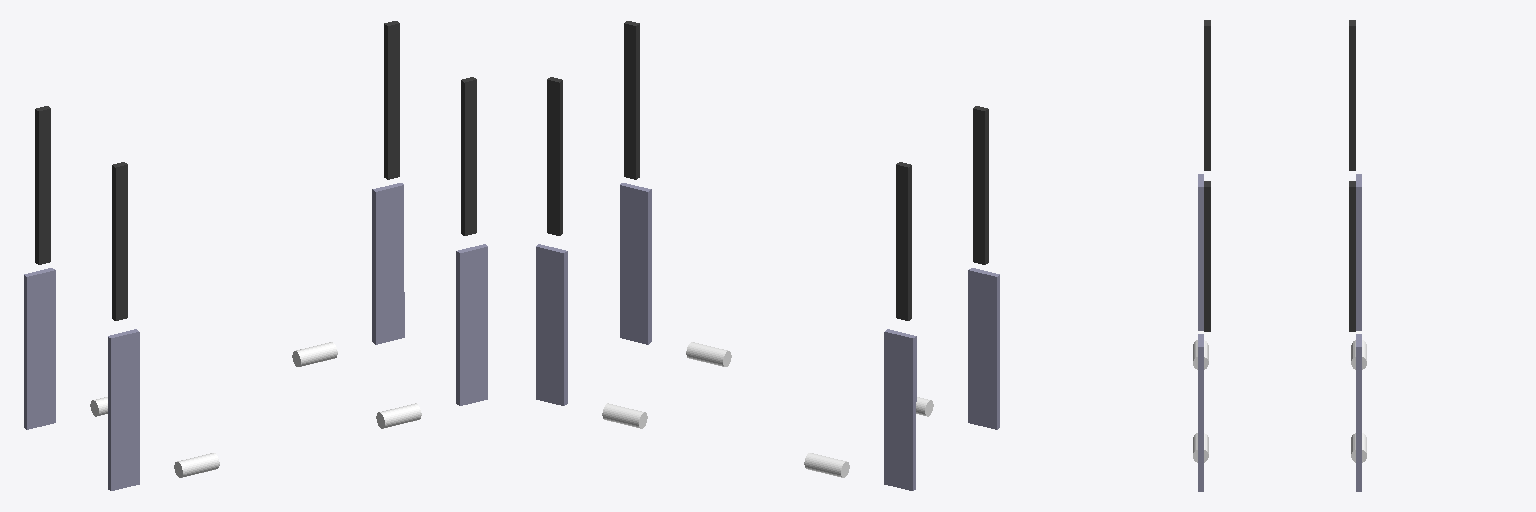
robot.urdf — quadruped:
<?xml version="1.0"?>
<robot name="quadruped">
	<link name="base_chassis_link">
		<visual>
			<geometry>
				<mesh filename="chassis.obj" scale="1 1 1"/>

			</geometry>
			<material name="black">
				<color rgba=".3 .3 .3 1"/>
			</material>
		</visual>
		<collision>
			<geometry>
				<box size=".3 .13 .087"/>
			</geometry>
		</collision>
		
		<inertial>
			<origin rpy="0 0 0" xyz=".05 0 0"/>
			<mass value="3.353"/>
			<inertia ixx=".006837" ixy=".0" ixz=".0" iyy=".027262" iyz=".0" izz=".029870"/>
		</inertial>
	</link>
	<link name="chassis_right">
			<visual>
			<geometry>
				<mesh filename="chassis2.obj" scale="1 1 1"/>
			</geometry>
			<material name="yellow">
				<color rgba=".7 .7 .3 1"/>
			</material>
		</visual>
		<collision>
			<origin rpy="0 0 0" xyz="0 0 0"/>
			<geometry>
				<mesh filename="chassis2.obj" scale="1 1 1"/>
			</geometry>
		</collision>
	
		<inertial>
			<mass value="1.32"/>
			<inertia ixx=".004147" ixy=".0" ixz=".0" iyy=".040913" iyz=".0" izz=".041840"/>
		</inertial>
	</link>
	<joint name="chassis_right_center" type="fixed">
		<axis xyz="0 0 1"/>
		<parent link="base_chassis_link"/>
		<child link="chassis_right"/>
		<origin rpy="0 0 0" xyz="0 -.1265 -.0185"/>
		<limit effort="100" velocity="100"/>
		<joint_properties damping=".0" friction=".0"/>
	</joint>


	<link name="motor_front_rightS_link">
		<visual>
			<origin rpy="0 0 0" xyz="0 0 0"/>
			<geometry>
				<cylinder length=".05" radius=".01"/>
			</geometry>
			<material name="white">
				<color rgba="1 1 1 1"/>
			</material>
		</visual>
		<collision>
			<origin rpy="0 0 0" xyz="0 0 0"/>
			<geometry>
				<cylinder length=".05" radius=".01"/>
			</geometry>
		</collision>
		<inertial>
			<mass value=".072"/>
			<inertia ixx=".00011397" ixy=".0" ixz=".0" iyy=".00011397" iyz=".0" izz=".00021765"/>
		</inertial>
	</link>
		
	<joint name="motor_front_rightS_joint" type="continuous">
		<axis xyz="0 0 1"/>
		<parent link="chassis_right"/>
		<child link="motor_front_rightS_link"/>
		<origin rpy="0 1.57075 0" xyz=".1375 .0275 0"/>
		<limit effort="100" velocity="100"/>
		<joint_properties damping=".0" friction=".0"/>
	</joint>

	  <link name="motor_back_rightS_link">
                <visual>
                        <origin rpy="0 0 0" xyz="0 0 0"/>
                        <geometry>
                                <cylinder length=".05" radius=".01"/>
                        </geometry>
                        <material name="white">
                                <color rgba="1 1 1 1"/>
                        </material>
                </visual>
                <collision>
                        <origin rpy="0 0 0" xyz="0 0 0"/>
                        <geometry>
                                <cylinder length=".05" radius=".01"/>
                        </geometry>
                </collision>
                <inertial>
                        <mass value=".072"/>
                        <inertia ixx=".00011397" ixy=".0" ixz=".0" iyy=".00011397" iyz=".0" izz=".00021765"/>
                </inertial>
        </link>

        <joint name="motor_back_rightS_joint" type="continuous">
                <axis xyz="0 0 1"/>
                <parent link="chassis_right"/>
                <child link="motor_back_rightS_link"/>
                <origin rpy="0 1.57075 0" xyz="-.1375 .0275 0"/>
                <limit effort="100" velocity="100"/>
                <joint_properties damping=".0" friction=".0"/>
        </joint>

	
	<link name="chassis_left">
		<visual>
			<origin rpy="0 0 0" xyz="0 0 0"/>
			<geometry>
				<mesh filename="chassis2.obj" scale="1 1 1"/>
			</geometry>
			<material name="yellow"/>
		</visual>
		
		<collision>
			<origin rpy="0 0 0" xyz="0 0 0"/>
			<geometry>
				<mesh filename="chassis2.obj" scale="1 1 1"/>
			</geometry>
		</collision>
		
		<inertial>
			<mass value="1.32"/>
			<inertia ixx=".004147" ixy=".0" ixz=".0" iyy=".040913" iyz=".0" izz=".041840"/>
		</inertial>
	</link>
	<joint name="chassis_left_center" type="fixed">
		<axis xyz="0 0 1"/>
		<parent link="base_chassis_link"/>
		<child link="chassis_left"/>
		<origin rpy="0 0 0" xyz="0 .1265 -.0185"/>
		<limit effort="100" velocity="100"/>
		<joint_properties damping=".0" friction=".0"/>
	</joint>


	 <link name="motor_front_leftS_link">
                <visual>
                        <origin rpy="0 0 0" xyz="0 0 0"/>
                        <geometry>
                                <cylinder length=".05" radius=".01"/>
                        </geometry>
                        <material name="white">
                                <color rgba="1 1 1 1"/>
                        </material>
                </visual>
                <collision>
                        <origin rpy="0 0 0" xyz="0 0 0"/>
                        <geometry>
                                <cylinder length=".05" radius=".01"/>
                        </geometry>
                </collision>
                <inertial>
                        <mass value=".072"/>
                        <inertia ixx=".00011397" ixy=".0" ixz=".0" iyy=".00011397" iyz=".0" izz=".00021765"/>
                </inertial>
        </link>

        <joint name="motor_front_leftS_joint" type="continuous">
                <axis xyz="0 0 1"/>
                <parent link="chassis_left"/>
                <child link="motor_front_leftS_link"/>
                <origin rpy="0 1.57075 0" xyz=".1375 -.0275 0"/>
                <limit effort="100" velocity="100"/>
                <joint_properties damping=".0" friction=".0"/>
        </joint>

	<link name="motor_back_leftS_link">
                <visual>
                        <origin rpy="0 0 0" xyz="0 0 0"/>
                        <geometry>
                                <cylinder length=".05" radius=".01"/>
                        </geometry>
                        <material name="white">
                                <color rgba="1 1 1 1"/>
                        </material>
                </visual>
                <collision>
                        <origin rpy="0 0 0" xyz="0 0 0"/>
                        <geometry>
                                <cylinder length=".05" radius=".01"/>
                        </geometry>
                </collision>
                <inertial>
                        <mass value=".072"/>
                        <inertia ixx=".00011397" ixy=".0" ixz=".0" iyy=".00011397" iyz=".0" izz=".00021765"/>
                </inertial>
        </link>

        <joint name="motor_back_leftS_joint" type="continuous">
                <axis xyz="0 0 1"/>
                <parent link="chassis_left"/>
                <child link="motor_back_leftS_link"/>
                <origin rpy="0 1.57075 0" xyz="-.1375 -.0275 0"/>
                <limit effort="100" velocity="100"/>
                <joint_properties damping=".0" friction=".0"/>
        </joint>



	<link name="motor_front_rightR_link">
		<visual>
			<origin rpy="0 0 0" xyz="0 0 0"/>
			<geometry>
				<mesh filename="tmotor3.obj" scale="1 1 1"/>
			</geometry>
			<material name="white">
				<color rgba="1 1 1 1"/>
			</material>
		</visual>
		<collision>
			<origin rpy="0 0 0" xyz="0 0 0"/>
			<geometry>
				<cylinder length=".021" radius=".0425"/>
			</geometry>
		</collision>
		<inertial>
			<mass value=".072"/>
			<inertia ixx=".00011397" ixy=".0" ixz=".0" iyy=".00011397" iyz=".0" izz=".00021765"/>
		</inertial>
	</link>
	<joint name="motor_front_rightR_joint" type="continuous">
		<axis xyz="0 0 1"/>
		<parent link="motor_front_rightS_link"/>
		<child link="motor_front_rightR_link"/>
		<origin rpy="1.57075 -1.57075 0" xyz="0 0 0.1"/>
		<limit effort="100" velocity="100"/>
		<joint_properties damping=".0" friction=".0"/>
	</joint>
	<link name="motor_front_rightL_link">
		<visual>
			<geometry>
				<mesh filename="tmotor3.obj" scale="1 1 1"/>
			</geometry>
			<material name="white">
				<color rgba="1 1 1 1"/>
			</material>
		</visual>
		<collision>
			<geometry>
				<cylinder length=".021" radius=".0425"/>
			</geometry>
		</collision>
		<inertial>
			<mass value=".072"/>
			<inertia ixx=".00011397" ixy=".0" ixz=".0" iyy=".00011397" iyz=".0" izz=".00021765"/>
		</inertial>
	</link>
	<joint name="motor_front_rightL_joint" type="continuous">
		<axis xyz="0 0 1"/>
		<parent link="motor_front_rightS_link"/>
		<child link="motor_front_rightL_link"/>
		<origin rpy="1.57075 0 3.141592" xyz="0 0.01 .1"/>
		<limit effort="100" velocity="100"/>
		<joint_properties damping=".0" friction=".0"/>
	</joint>
	
	
	<link name="motor_front_leftL_link">
		<visual>
			<geometry>
				<mesh filename="tmotor3.obj" scale="1 1 1"/>
			</geometry>
			<material name="white">
				<color rgba="1 1 1 1"/>
			</material>
		</visual>
		<collision>

			<geometry>
				<cylinder length=".021" radius=".0425"/>
			</geometry>
		</collision>
		<inertial>
			<mass value=".072"/>
			<inertia ixx=".00011397" ixy=".0" ixz=".0" iyy=".00011397" iyz=".0" izz=".00021765"/>
		</inertial>
	</link>



	<joint name="motor_front_leftL_joint" type="continuous">
		<axis xyz="0 0 1"/>
		<parent link="motor_front_leftS_link"/>
		<child link="motor_front_leftL_link"/>
		<origin rpy="-1.57075 1.57075 0" xyz="0 0 0.1"/>
		<limit effort="100" velocity="100"/>
		<joint_properties damping=".0" friction=".0"/>
	</joint>
	
	<link name="motor_front_leftR_link">
		<visual>
			<geometry>
				<mesh filename="tmotor3.obj" scale="1 1 1"/>
			</geometry>
			<material name="white">
				<color rgba="1 1 1 1"/>
			</material>
		</visual>
		<collision>
			<geometry>
				<cylinder length=".021" radius=".0425"/>
			</geometry>
		</collision>
		<inertial>
			<mass value=".072"/>
			<inertia ixx=".00011397" ixy=".0" ixz=".0" iyy=".00011397" iyz=".0" izz=".00021765"/>
		</inertial>
	</link>
	<joint name="motor_front_leftR_joint" type="continuous">
		<axis xyz="0 0 1"/>
		<parent link="motor_front_leftS_link"/>
		<child link="motor_front_leftR_link"/>
		<origin rpy="1.57075 0 0" xyz="0 0 0.1"/>
		<limit effort="100" velocity="100"/>
		<joint_properties damping=".0" friction=".0"/>
	</joint>
	<link name="motor_back_rightR_link">
		<visual>
			<geometry>
				<mesh filename="tmotor3.obj" scale="1 1 1"/>
			</geometry>
			<material name="white">
				<color rgba="1 1 1 1"/>
			</material>
		</visual>
		<collision>
			<geometry>
				<cylinder length=".021" radius=".0425"/>
			</geometry>
		</collision>
		<inertial>
			<mass value=".072"/>
			<inertia ixx=".00011397" ixy=".0" ixz=".0" iyy=".00011397" iyz=".0" izz=".00021765"/>
		</inertial>
	</link>

	<joint name="motor_back_rightR_joint" type="continuous">
		<axis xyz="0 0 1"/>
		<parent link="motor_back_rightS_link"/>
		<child link="motor_back_rightR_link"/>
		<origin rpy="1.57075 -1.57075 0" xyz="0 0 -0.1"/>
		<limit effort="100" velocity="100"/>
		<joint_properties damping=".0" friction=".0"/>
	</joint>
	<link name="motor_back_rightL_link">
		<visual>
			<geometry>
				<mesh filename="tmotor3.obj" scale="1 1 1"/>
			</geometry>
			<material name="white">
				<color rgba="1 1 1 1"/>
			</material>
		</visual>
		<collision>
			<geometry>
				<cylinder length=".021" radius=".0425"/>
			</geometry>
		</collision>
		<inertial>
			<mass value=".072"/>
			<inertia ixx=".00011397" ixy=".0" ixz=".0" iyy=".00011397" iyz=".0" izz=".00021765"/>
		</inertial>
	</link>
	<joint name="motor_back_rightL_joint" type="continuous">
		<axis xyz="0 0 1"/>
		<parent link="chassis_right"/>
		<child link="motor_back_rightL_link"/>
		<origin rpy="1.57075 0 3.141592" xyz="-.2375 .0275 0"/>
		<limit effort="100" velocity="100"/>
		<joint_properties damping=".0" friction=".0"/>
	</joint>
	<link name="motor_back_leftL_link">
		<visual>
			<geometry>
				<mesh filename="tmotor3.obj" scale="1 1 1"/>
			</geometry>
			<material name="white">
				<color rgba="1 1 1 1"/>
			</material>
		</visual>
		<collision>
			<geometry>
				<cylinder length=".021" radius=".0425"/>
			</geometry>
		</collision>
		<inertial>
			<mass value=".072"/>
			<inertia ixx=".00011397" ixy=".0" ixz=".0" iyy=".00011397" iyz=".0" izz=".00021765"/>
		</inertial>
	</link>


	<joint name="motor_back_leftL_joint" type="continuous">
		<axis xyz="0 0 1"/>
		<parent link="motor_back_leftS_link"/>
		<child link="motor_back_leftL_link"/>
		<origin rpy="-1.57075 1.57075 0" xyz="0 0 -0.1"/>
		<limit effort="100" velocity="100"/>
		<joint_properties damping=".0" friction=".0"/>
	</joint>
	<link name="motor_back_leftR_link">
		<visual>
			<geometry>
				<mesh filename="tmotor3.obj" scale="1 1 1"/>
			</geometry>
			<material name="white">
				<color rgba="1 1 1 1"/>
			</material>
		</visual>
		<collision>
			<geometry>
				<cylinder length=".021" radius=".0425"/>
			</geometry>
		</collision>
		<inertial>
			<mass value=".072"/>
			<inertia ixx=".00011397" ixy=".0" ixz=".0" iyy=".00011397" iyz=".0" izz=".00021765"/>
		</inertial>
	</link>
	<joint name="motor_back_leftR_joint" type="continuous">
		<axis xyz="0 0 1"/>
		<parent link="chassis_left"/>
		<child link="motor_back_leftR_link"/>
		<origin rpy="1.57075 0 0" xyz="-.2375 -.0275 0"/>
		<limit effort="100" velocity="100"/>
		<joint_properties damping=".0" friction=".0"/>
	</joint>
	<link name="upper_leg_front_rightR_link">
		<visual>
			<geometry>
				<box size=".039 .008 .199"/>
			</geometry>
			<material name="grey">
				<color rgba=".65 .65 .75 1"/>
			</material>
		</visual>
		<collision>
			<geometry>
				<box size=".039 .008 .199"/>
			</geometry>
		</collision>
		<inertial>
			<mass value=".034"/>
			<inertia ixx=".000038770" ixy=".0" ixz=".0" iyy=".000042198" iyz=".0" izz=".0000036030"/>
		</inertial>
	</link>
	<joint name="hip_front_rightR_joint" type="fixed">
		<axis xyz="0 0 1"/>
		<parent link="motor_front_rightR_link"/>
		<child link="upper_leg_front_rightR_link"/>
		<origin rpy="-1.57075 0 0" xyz="0 0.095 0"/>
		<limit effort="100" velocity="100"/>
		<joint_properties damping=".0" friction=".0"/>
	</joint>
	<link name="lower_leg_front_rightR_link">
		<contact>
			<friction_anchor/>
			<stiffness value="3000.0"/>
			<damping value="100.0"/>
			<spinning_friction value=".3"/>
			<lateral_friction value="1"/>
		</contact>
		<visual>
			<origin rpy="0 0 0" xyz="0 0 .120"/>
			<geometry>
				<box size=".017 .009 .200"/>
			</geometry>
			<material name="black"/>
		</visual>
		<collision>
			<origin rpy="0 0 0" xyz="0 0 .120"/>
			<geometry>
				<box size=".017 .009 .200"/>
			</geometry>
		</collision>
		<inertial>
			<origin rpy="0 0 0" xyz="0 0 .120"/>
			<mass value=".086"/>
			<inertia ixx=".00032459" ixy=".0" ixz=".0" iyy=".00032637" iyz=".0" izz=".000002178"/>
		</inertial>
	</link>
	<joint name="knee_front_rightR_joint" type="continuous">
		<axis xyz="0 1 0"/>
		<parent link="upper_leg_front_rightR_link"/>
		<child link="lower_leg_front_rightR_link"/>
		<origin rpy="0 0 0" xyz="0 .0085 .096"/>
		<limit effort="100" velocity="100"/>
		<joint_properties damping=".0" friction=".0"/>
	</joint>
	
	<link name="upper_leg_front_leftL_link">
		<visual>
			<geometry>
				<box size=".039 .008 .199"/>
			</geometry>
			<material name="grey">
				<color rgba=".65 .65 .75 1"/>
			</material>
		</visual>
		<collision>
			<geometry>
				<box size=".039 .008 .199"/>
			</geometry>
		</collision>
		<inertial>
			<mass value=".034"/>
			<inertia ixx=".000038770" ixy=".0" ixz=".0" iyy=".000042198" iyz=".0" izz=".0000036030"/>
		</inertial>
	</link>
	<joint name="hip_front_leftL_joint" type="fixed">
		<axis xyz="0 0 1"/>
		<parent link="motor_front_leftL_link"/>
		<child link="upper_leg_front_leftL_link"/>
		<origin rpy="-1.57075 0 0" xyz="0 .095 .0"/>
		<limit effort="100" velocity="100"/>
		<joint_properties damping=".0" friction=".0"/>
	</joint>
	<link name="lower_leg_front_leftL_link">
		<contact>
			<friction_anchor/>
			<stiffness value="3000.0"/>
			<damping value="100.0"/>
			<spinning_friction value=".3"/>
			<lateral_friction value="1"/>
		</contact>
		<visual>
			<origin rpy="0 0 0" xyz="0 0 .120"/>
			<geometry>
				<box size=".017 .009 .200"/>
			</geometry>
			<material name="black"/>

		</visual>
		<collision>
			<origin rpy="0 0 0" xyz="0 0 .120"/>
			<geometry>
				<box size=".017 .009 .200"/>
			</geometry>
		</collision>
		<inertial>
			<origin rpy="0 0 0" xyz="0 0 .120"/>
			<mass value=".086"/>
			<inertia ixx=".00032459" ixy=".0" ixz=".0" iyy=".00032637" iyz=".0" izz=".000002178"/>
		</inertial>
	</link>
	<joint name="knee_front_leftL_joint" type="continuous">
		<axis xyz="0 1 0"/>
		<parent link="upper_leg_front_leftL_link"/>
		<child link="lower_leg_front_leftL_link"/>
		<origin rpy="0 0 0" xyz="0 .0085 .096"/>
		<limit effort="100" velocity="100"/>
		<joint_properties damping=".0" friction=".0"/>
	</joint>
	<link name="upper_leg_back_rightR_link">
		<visual>
			<geometry>
				<box size=".039 .008 .199"/>
			</geometry>
			<material name="grey">
				<color rgba=".65 .65 .75 1"/>
			</material>
		</visual>
		<collision>
			<geometry>
				<box size=".039 .008 .199"/>
			</geometry>
		</collision>
		<inertial>
			<mass value=".034"/>
			<inertia ixx=".000038770" ixy=".0" ixz=".0" iyy=".000042198" iyz=".0" izz=".0000036030"/>
		</inertial>
	</link>
	<joint name="hip_back_rightR_joint" type="fixed">
		<axis xyz="0 0 1"/>
		<parent link="motor_back_rightR_link"/>
		<child link="upper_leg_back_rightR_link"/>
		<origin rpy="-1.57075 0 0" xyz="0 .095 0"/>
		<limit effort="100" velocity="100"/>
		<joint_properties damping=".0" friction=".0"/>
	</joint>
	<link name="lower_leg_back_rightR_link">
		<contact>
			<friction_anchor/>
			<stiffness value="3000.0"/>
			<damping value="100.0"/>
			<spinning_friction value=".3"/>
			<lateral_friction value="1"/>
		</contact>
		<visual>
			<origin rpy="0 0 0" xyz="0 0 .120"/>
			<geometry>
				<box size=".017 .009 .200"/>
			</geometry>
						<material name="black"/>

		</visual>
		<collision>
			<origin rpy="0 0 0" xyz="0 0 .120"/>
			<geometry>
				<box size=".017 .009 .200"/>
			</geometry>
		</collision>
		<inertial>
			<origin rpy="0 0 0" xyz="0 0 .120"/>
			<mass value=".086"/>
			<inertia ixx=".00032459" ixy=".0" ixz=".0" iyy=".00032637" iyz=".0" izz=".000002178"/>
		</inertial>
	</link>
	<joint name="knee_back_rightR_joint" type="continuous">
		<axis xyz="0 1 0"/>
		<parent link="upper_leg_back_rightR_link"/>
		<child link="lower_leg_back_rightR_link"/>
		<origin rpy="0 0 0" xyz="0 .0085 .096"/>
		<limit effort="100" velocity="100"/>
		<joint_properties damping=".0" friction=".0"/>
	</joint>
	
	
	<link name="upper_leg_back_leftL_link">
		<visual>
			<geometry>
				<box size=".039 .008 .199"/>
			</geometry>
			<material name="grey">
				<color rgba=".65 .65 .75 1"/>
			</material>
		</visual>
		<collision>
			<geometry>
				<box size=".039 .008 .199"/>
			</geometry>
		</collision>
		<inertial>
			<mass value=".034"/>
			<inertia ixx=".000038770" ixy=".0" ixz=".0" iyy=".000042198" iyz=".0" izz=".0000036030"/>
		</inertial>
	</link>
	<joint name="hip_back_leftL_joint" type="fixed">
		<axis xyz="0 0 1"/>
		<parent link="motor_back_leftL_link"/>
		<child link="upper_leg_back_leftL_link"/>
		<origin rpy="-1.57075 0 0" xyz="0 .095 0"/>
		<limit effort="100" velocity="100"/>
		<joint_properties damping=".0" friction=".0"/>
	</joint>
	<link name="lower_leg_back_leftL_link">
		<contact>
			<friction_anchor/>
			<stiffness value="3000.0"/>
			<damping value="100.0"/>
			<spinning_friction value=".3"/>
			<lateral_friction value="1"/>
		</contact>
		<visual>
			<origin rpy="0 0 0" xyz="0 0 .120"/>
			<geometry>
				<box size=".017 .009 .200"/>
			</geometry>
						<material name="black"/>

		</visual>
		<collision>
			<origin rpy="0 0 0" xyz="0 0 .120"/>
			<geometry>
				<box size=".017 .009 .200"/>
			</geometry>
		</collision>
		<inertial>
			<origin rpy="0 0 0" xyz="0 0 .120"/>
			<mass value=".086"/>
			<inertia ixx=".00032459" ixy=".0" ixz=".0" iyy=".00032637" iyz=".0" izz=".000002178"/>
		</inertial>
	</link>
	<joint name="knee_back_leftL_joint" type="continuous">
		<axis xyz="0 1 0"/>
		<parent link="upper_leg_back_leftL_link"/>
		<child link="lower_leg_back_leftL_link"/>
		<origin rpy="0 0 0" xyz="0 .0085 .096"/>
		<limit effort="100" velocity="100"/>
		<joint_properties damping=".0" friction=".0"/>
	</joint>
</robot>

--- What the picture shows (computed from the rendered views, not written in the file) ---
The picture shows the robot from 3 angles, left to right: view 1: azimuth 30°, elevation 25°; view 2: azimuth 150°, elevation 25°; view 3: azimuth 270°, elevation 25°; orthographic projection.
Robot: quadruped — 23 links, 22 joints (16 continuous, 6 fixed); root link base_chassis_link; default pose: every joint at zero.
Visible links, largest first — view 1: upper_leg_front_leftL_link, upper_leg_back_leftL_link, upper_leg_front_rightR_link, upper_leg_back_rightR_link, lower_leg_front_rightR_link, lower_leg_back_rightR_link, lower_leg_back_leftL_link, lower_leg_front_leftL_link, motor_back_rightS_link, motor_front_rightS_link, motor_front_leftS_link; view 2: upper_leg_back_leftL_link, upper_leg_front_rightR_link, upper_leg_front_leftL_link, upper_leg_back_rightR_link, lower_leg_front_leftL_link, lower_leg_back_rightR_link, lower_leg_back_leftL_link, lower_leg_front_rightR_link, motor_front_rightS_link, motor_front_leftS_link, motor_back_leftS_link; view 3: lower_leg_front_rightR_link, lower_leg_front_leftL_link, lower_leg_back_rightR_link, lower_leg_back_leftL_link, upper_leg_front_rightR_link, upper_leg_front_leftL_link, upper_leg_back_rightR_link, upper_leg_back_leftL_link.
Link boxes in pixels (left/top/right/bottom): upper_leg_front_leftL_link: left=372, top=183, right=404, bottom=344; upper_leg_back_leftL_link: left=24, top=268, right=55, bottom=429; upper_leg_front_rightR_link: left=456, top=244, right=487, bottom=405; upper_leg_back_rightR_link: left=108, top=329, right=139, bottom=490; lower_leg_front_rightR_link: left=461, top=77, right=476, bottom=235; lower_leg_back_rightR_link: left=112, top=162, right=127, bottom=320; lower_leg_back_leftL_link: left=35, top=106, right=50, bottom=264; lower_leg_front_leftL_link: left=384, top=21, right=399, bottom=179; motor_back_rightS_link: left=174, top=453, right=219, bottom=477; motor_front_rightS_link: left=376, top=403, right=421, bottom=428; motor_front_leftS_link: left=292, top=342, right=337, bottom=366; upper_leg_back_leftL_link: left=884, top=329, right=916, bottom=490; upper_leg_front_rightR_link: left=620, top=183, right=651, bottom=344; upper_leg_front_leftL_link: left=536, top=244, right=567, bottom=405; upper_leg_back_rightR_link: left=968, top=268, right=999, bottom=429; lower_leg_front_leftL_link: left=547, top=77, right=562, bottom=235; lower_leg_back_rightR_link: left=973, top=106, right=988, bottom=264; lower_leg_back_leftL_link: left=896, top=162, right=911, bottom=320; lower_leg_front_rightR_link: left=624, top=21, right=639, bottom=179; motor_front_rightS_link: left=686, top=342, right=731, bottom=366; motor_front_leftS_link: left=602, top=403, right=647, bottom=428; motor_back_leftS_link: left=804, top=453, right=849, bottom=477; lower_leg_front_rightR_link: left=1204, top=181, right=1210, bottom=331; lower_leg_front_leftL_link: left=1349, top=181, right=1355, bottom=331; lower_leg_back_rightR_link: left=1204, top=20, right=1210, bottom=170; lower_leg_back_leftL_link: left=1349, top=20, right=1355, bottom=170; upper_leg_front_rightR_link: left=1198, top=334, right=1203, bottom=491; upper_leg_front_leftL_link: left=1356, top=334, right=1361, bottom=491; upper_leg_back_rightR_link: left=1198, top=174, right=1203, bottom=330; upper_leg_back_leftL_link: left=1356, top=174, right=1361, bottom=330.
Size in the robot's own frame: 0.514 by 0.218 by 0.421 metres.
0 mesh visuals loaded from 3 distinct referenced files (none loaded); not drawn: 11 (reference not matched to a file when rendering).